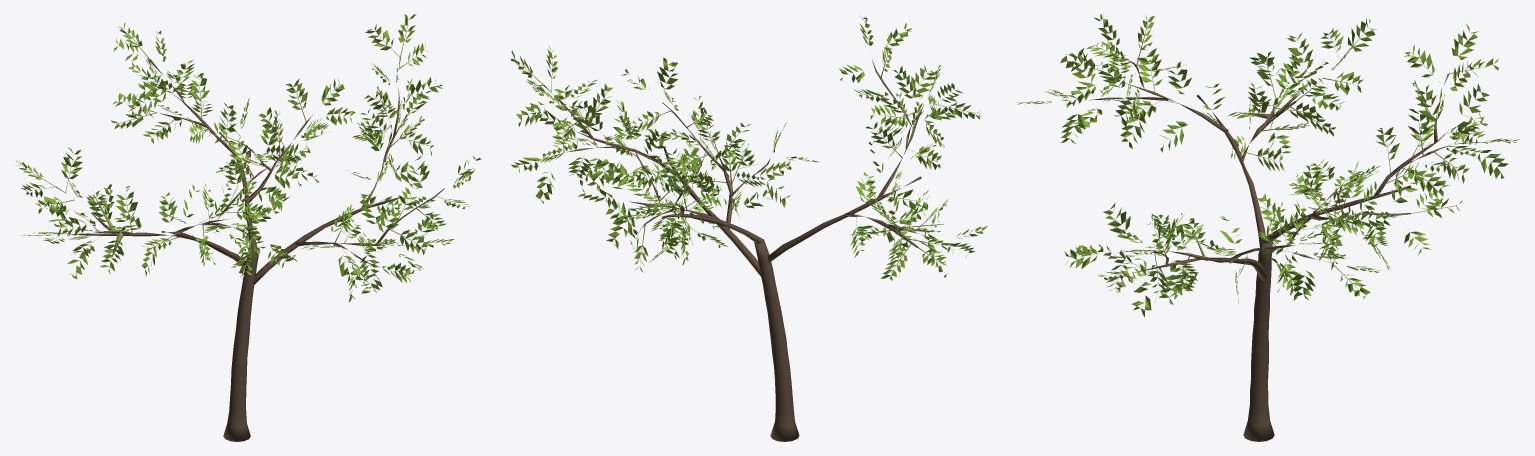
The model's file is 14_2_mid.glb.
The picture shows the model from 3 angles, left to right: view 1: azimuth 30°, elevation 25°; view 2: azimuth 150°, elevation 25°; view 3: azimuth 270°, elevation 25°; orthographic projection. The views are drawn at different scales.
Visible parts, largest first — view 1: body; view 2: body; view 3: body.
Part boxes in pixels (<box>): body: <box>15,14,481,441</box>; body: <box>510,16,987,441</box>; body: <box>1016,14,1519,441</box>.
Bounding box in the file's own units: 4.62 × 3.71 × 4.23.
Materials: 1 (1 with a texture image).
